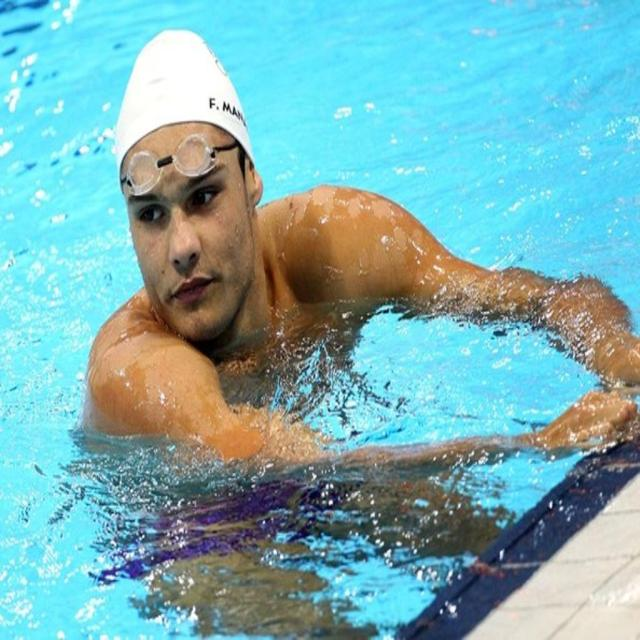Face: (107, 113, 257, 337)
